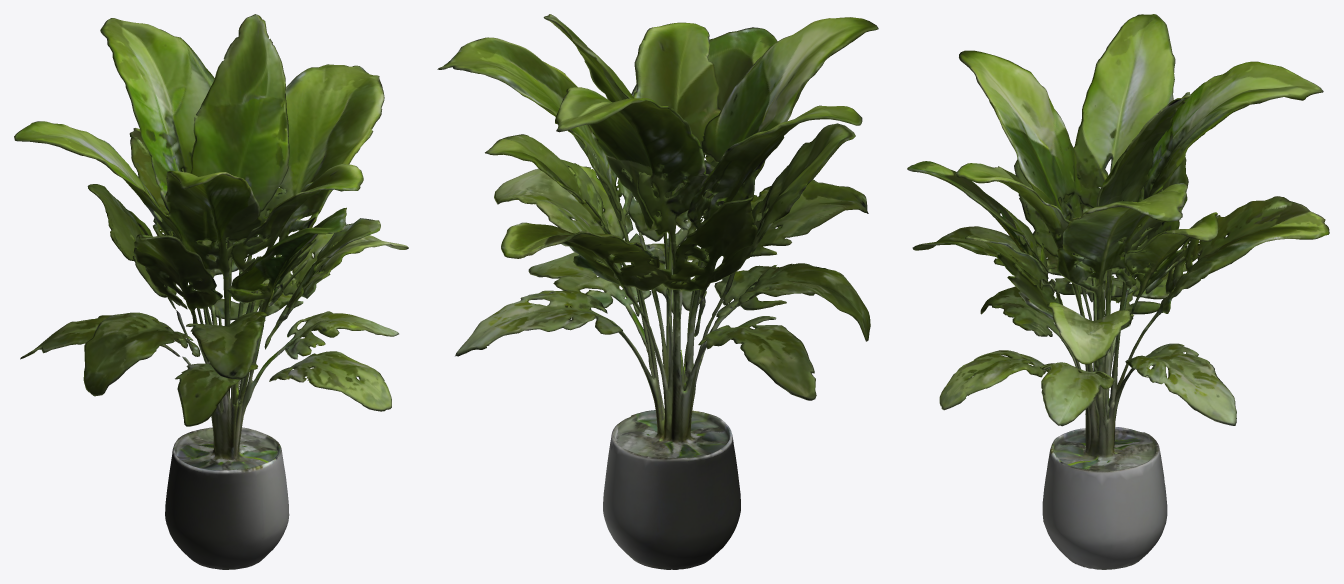
The model's file is plant1.glb.
The picture shows the model from 3 angles, left to right: view 1: azimuth 30°, elevation 25°; view 2: azimuth 150°, elevation 25°; view 3: azimuth 270°, elevation 25°; orthographic projection. The views are drawn at different scales.
Size of the model in its own units: 1.54 by 2 by 1.55.
1 material, 1 textured.
